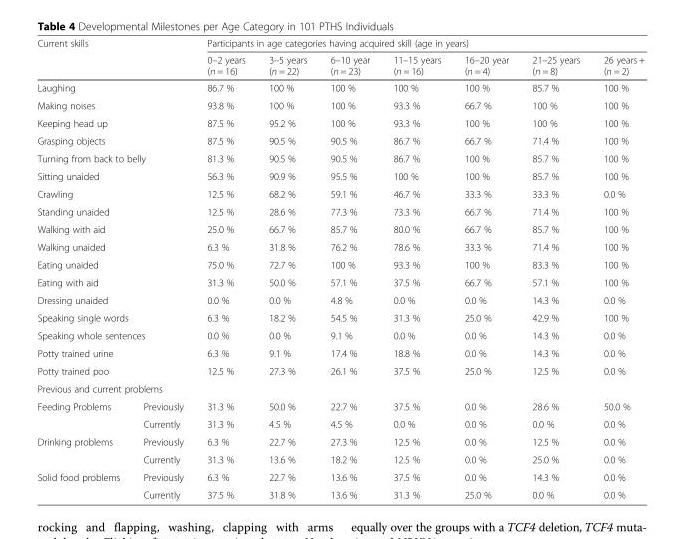table: (36, 37, 644, 500)
table column: (36, 37, 131, 500), (380, 37, 452, 500), (519, 37, 591, 500), (452, 37, 519, 500), (131, 37, 194, 500), (194, 37, 256, 500), (256, 37, 318, 500), (318, 37, 380, 500), (591, 37, 644, 500)
table column header: (36, 37, 644, 79)
table projected row header: (36, 379, 644, 397)
table row: (36, 51, 644, 79), (36, 113, 644, 131), (36, 131, 644, 149), (36, 149, 644, 167), (36, 184, 644, 202), (36, 202, 644, 220), (36, 237, 644, 255), (36, 255, 644, 273), (36, 290, 644, 308), (36, 308, 644, 326), (36, 326, 644, 344), (36, 361, 644, 379), (36, 379, 644, 397), (36, 414, 644, 432), (36, 432, 644, 450), (36, 450, 644, 468), (36, 79, 644, 96), (36, 96, 644, 113), (36, 167, 644, 184), (36, 220, 644, 237), (36, 273, 644, 290), (36, 344, 644, 361), (36, 397, 644, 414), (36, 468, 644, 485), (36, 485, 644, 500), (36, 37, 644, 51)
table spanning cell: (36, 37, 194, 79), (194, 37, 644, 51), (36, 432, 131, 468), (36, 397, 131, 432), (36, 468, 131, 500), (36, 113, 194, 131), (36, 131, 194, 149), (36, 149, 194, 167), (36, 184, 194, 202), (36, 202, 194, 220), (36, 237, 194, 255), (36, 255, 194, 273), (36, 290, 194, 308), (36, 308, 194, 326), (36, 326, 194, 344), (36, 361, 194, 379), (36, 79, 194, 96), (36, 96, 194, 113), (36, 167, 194, 184), (36, 220, 194, 237), (36, 273, 194, 290), (36, 344, 194, 361)
